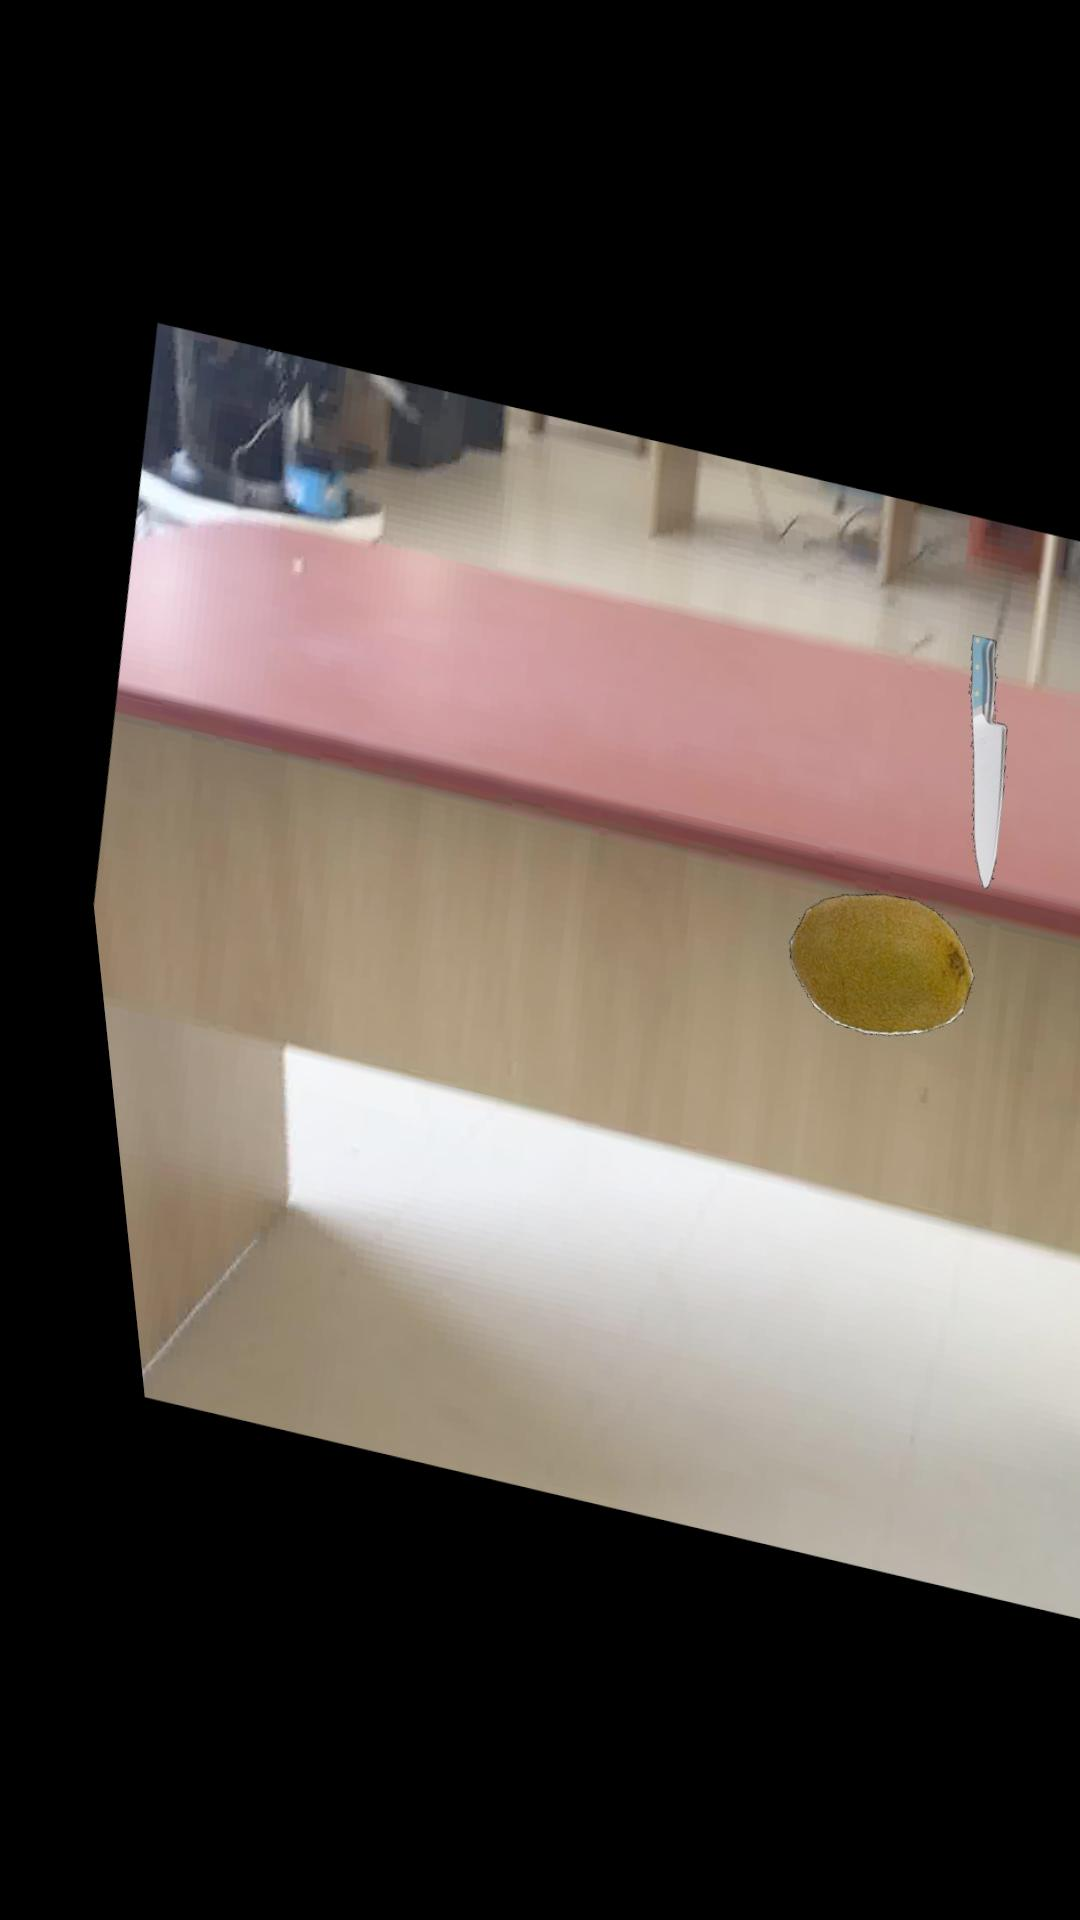kiwi: (766, 890, 951, 1033)
knife: (952, 630, 989, 885)
